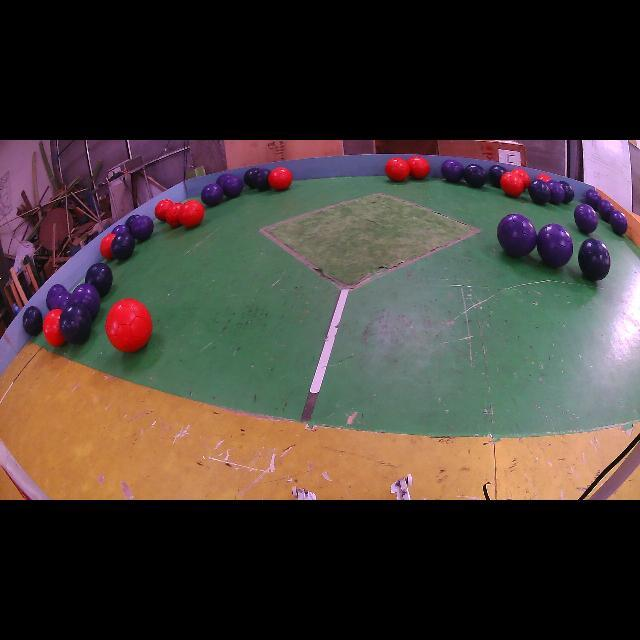R: (105, 299, 152, 352)
